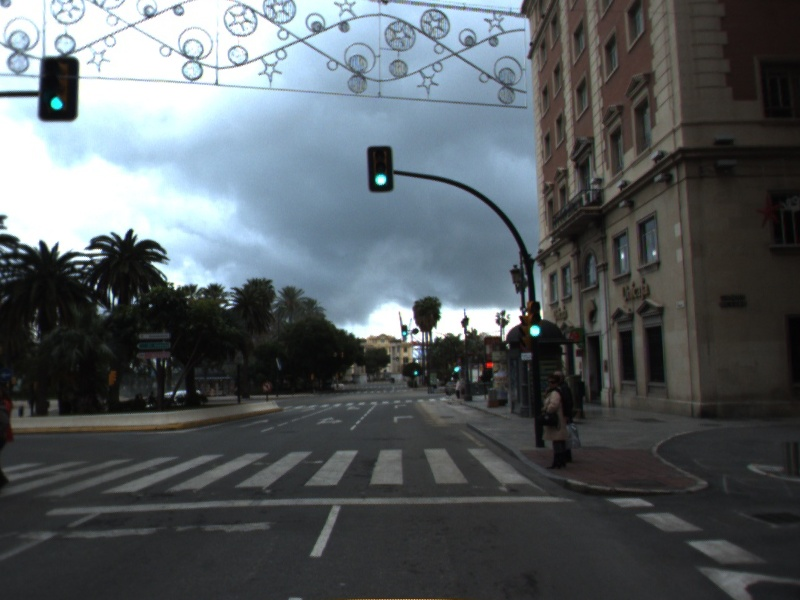RIGHT: (392, 413, 417, 425)
STRAIGHT: (237, 417, 271, 429)
STRAIGHT_RIGHT: (314, 414, 345, 427)
